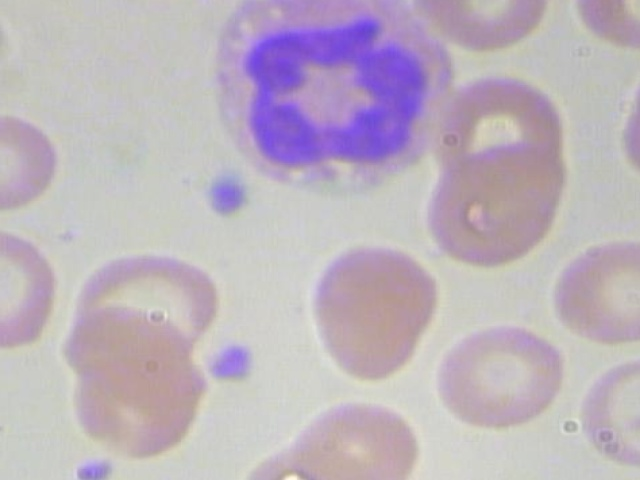Platelets: (190, 166, 261, 226), (198, 340, 253, 381), (63, 453, 119, 480)
RBC: (63, 304, 211, 463), (297, 234, 449, 385), (425, 139, 574, 273), (429, 317, 576, 431), (545, 234, 640, 348), (405, 0, 555, 57), (0, 223, 65, 354), (584, 54, 640, 186), (0, 105, 63, 219), (579, 352, 640, 467)
WBC: (202, 0, 457, 204)
